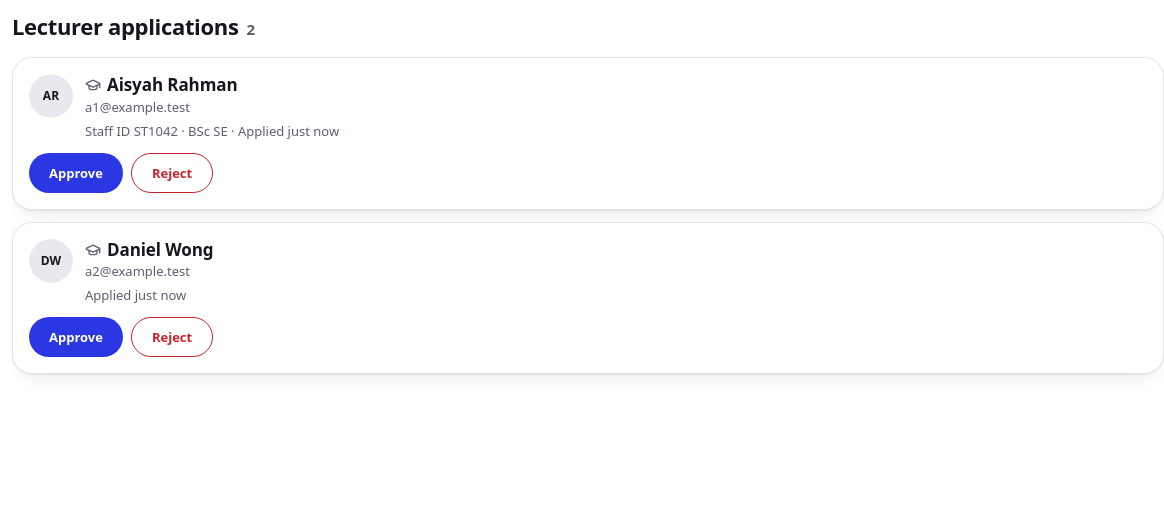
Test case: admin lecturer applications › CLI-TC77: rejecting needs a reason; nothing is sent until one is typed
The width and height of the screenshot is (1164, 508).
Click the button with aria-label "Reject Aisyah Rahman". click: (172, 173)
box: [131,153,213,193]
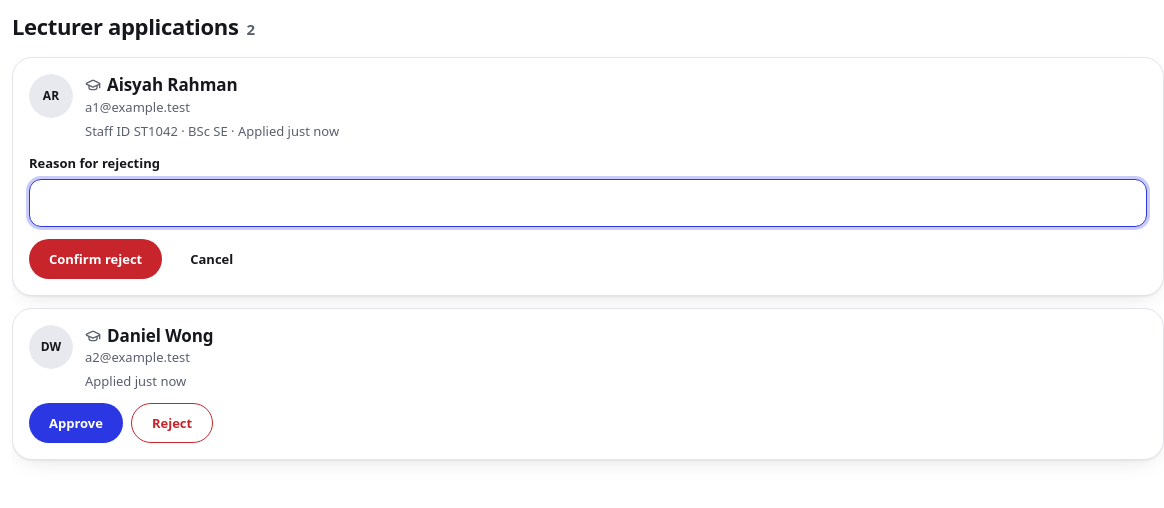
Click the button "Confirm reject". click: (96, 259)
box: [29,239,162,279]
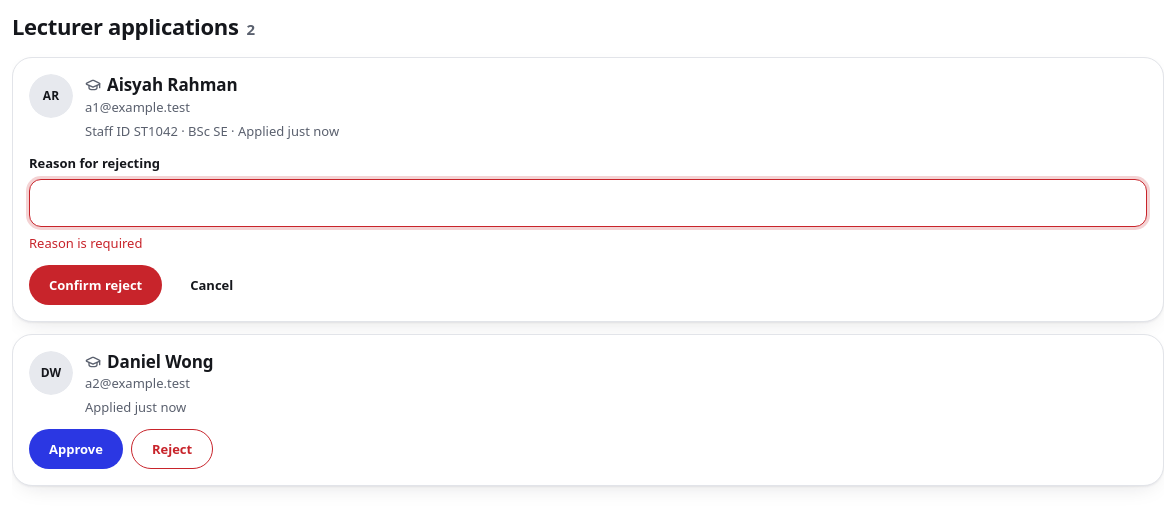
Check: the message reads "Reason is required", box [29,234,142,252]
Type "Not staff" into the field labelled "Reason for rejecting". click: (588, 203)
box: [29,179,1147,227]
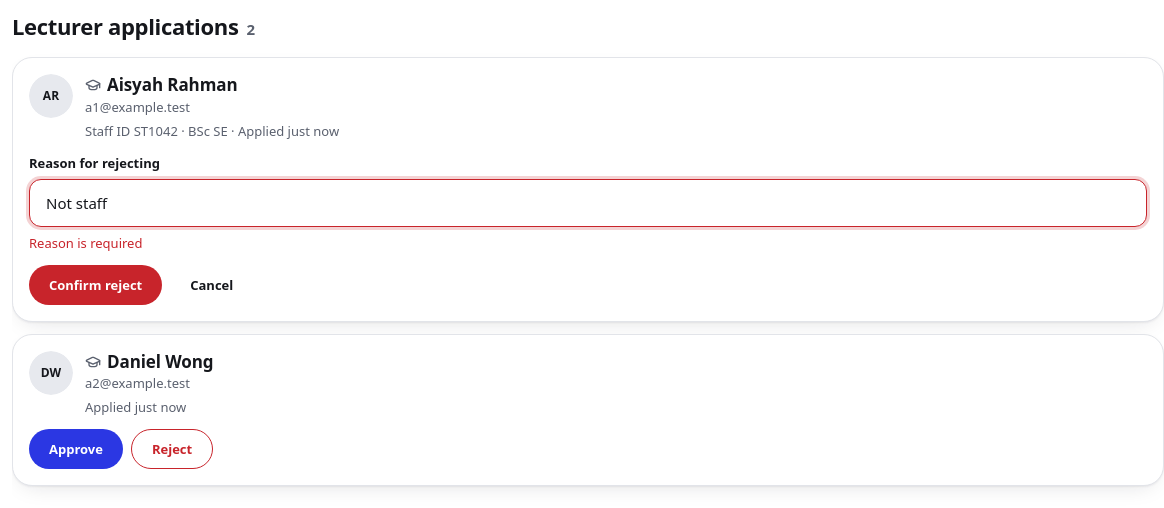
Click the button "Confirm reject". click: (96, 285)
box: [29,265,162,305]
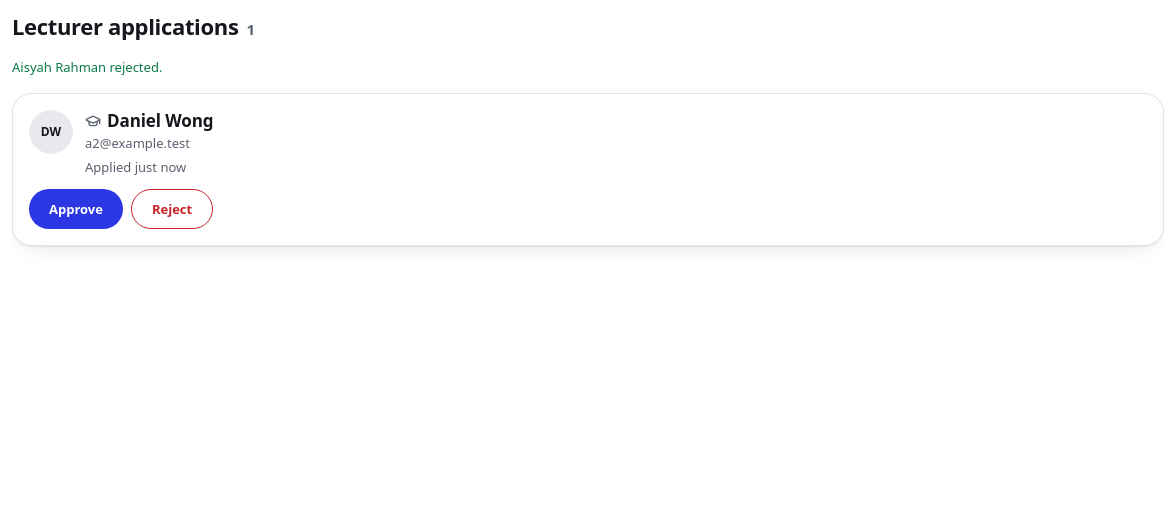
Check: the message reads "Aisyah Rahman rejected.", box [12,58,162,76]
